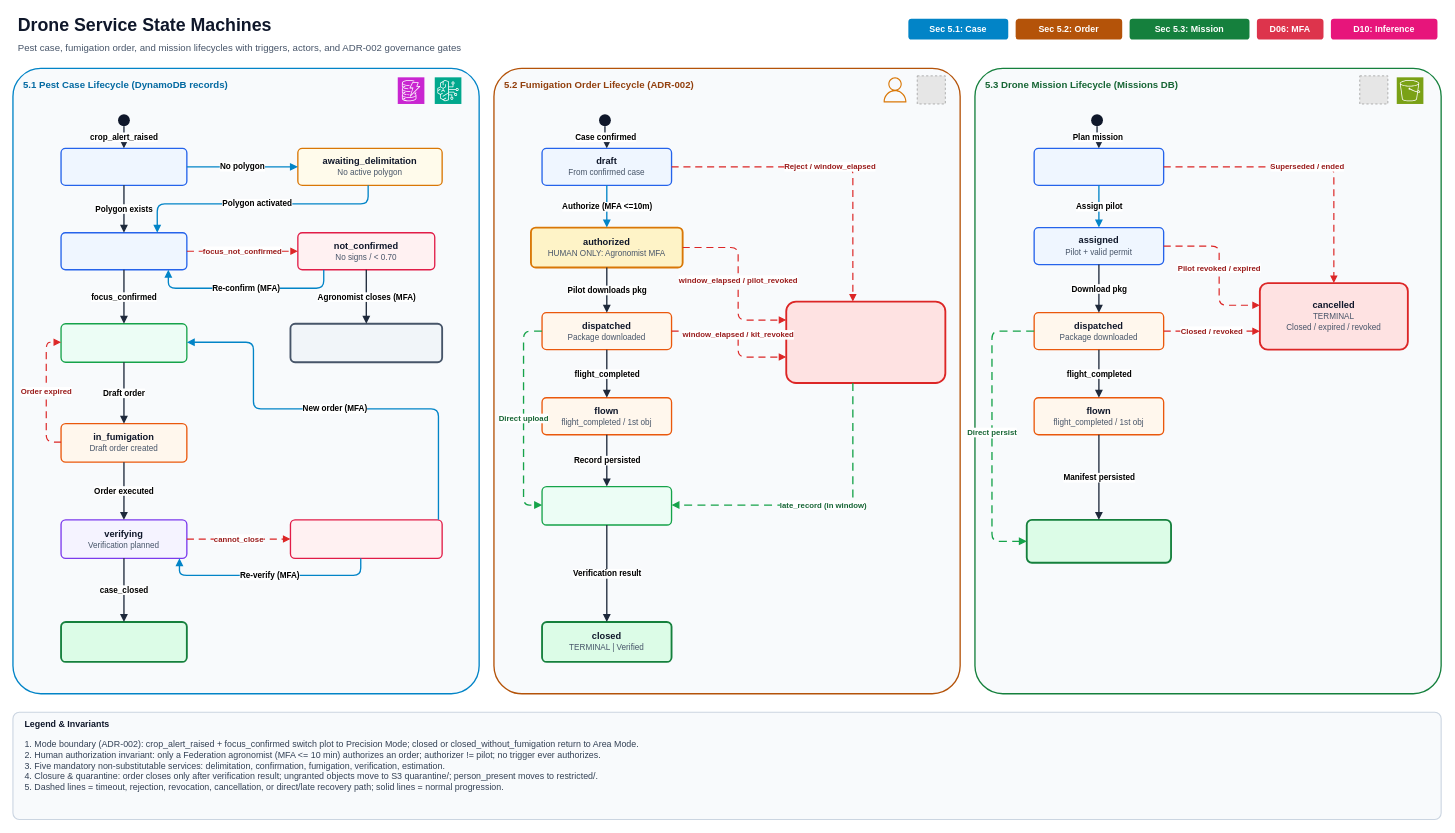
The diagram is 1455 pixels wide and 833 high, and some of its shapes have lost their labels. Grey dashed boxes stand in for pictures. The shapes that lost their labels are listed below. From the top down, each one's centre as x and y in pixels, then its label:
At pixel 123 166: "opened Case created".
At pixel 1098 166: "planned Case or campaign".
At pixel 123 251: "confirming Confirmation planned".
At pixel 123 343: "confirmed Bedrock focus_confirmed".
At pixel 366 342: "closed_without_fumigation TERMINAL | Area mode".
At pixel 865 342: "expired TERMINAL / RECOVERABLE rejected | window_elapsed | revoked".
At pixel 606 505: "executed Flight record persisted".
At pixel 365 539: "verification_not_closable Signs remain / < 0.70".
At pixel 1098 541: "record_persisted TERMINAL SUCCESS Manifest & S3 checksum OK".
At pixel 123 642: "closed TERMINAL | Area mode".
